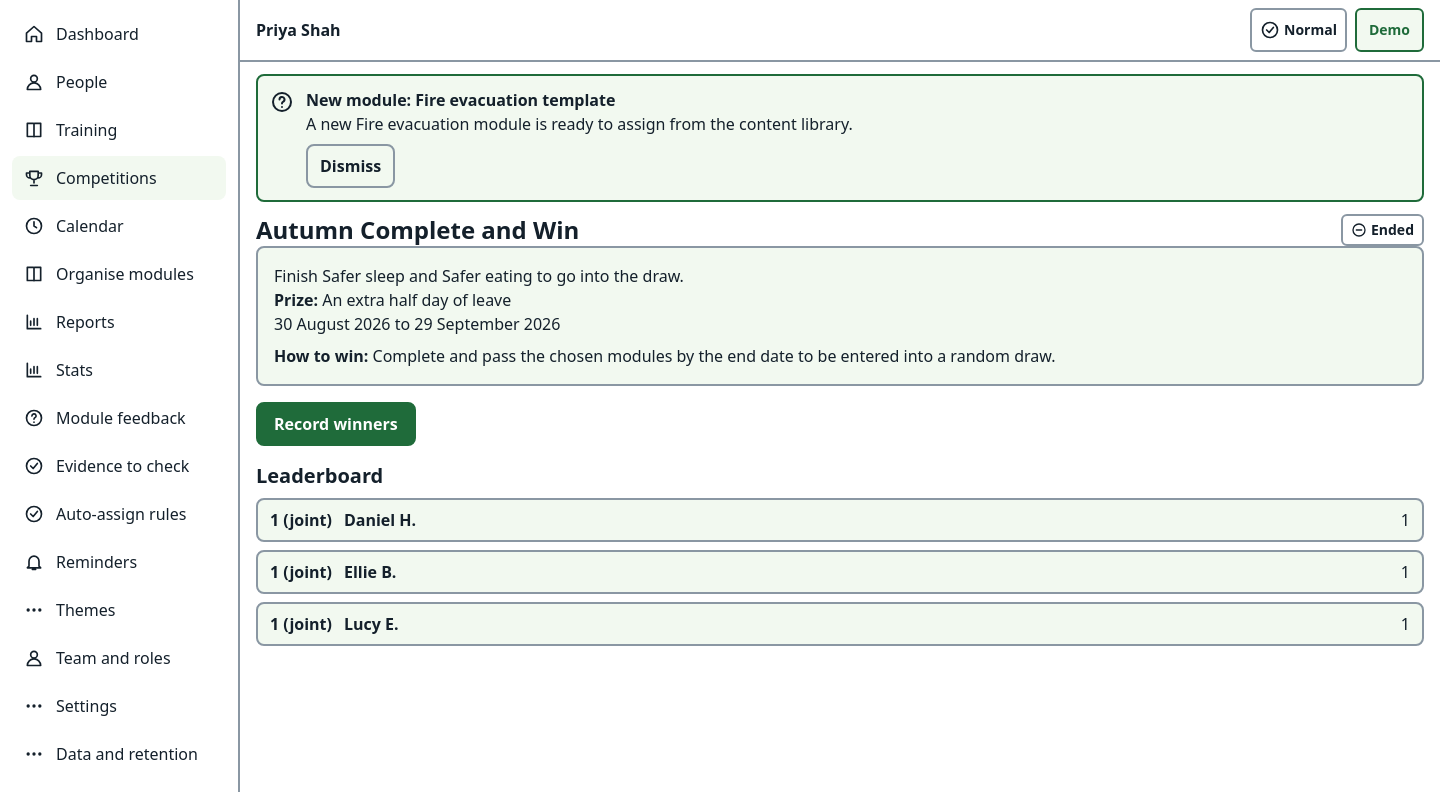
it: C13 Competition detail › records winners once after the end and then lists them
Click the button "Record winners". click: (336, 424)
box: [256, 402, 416, 446]
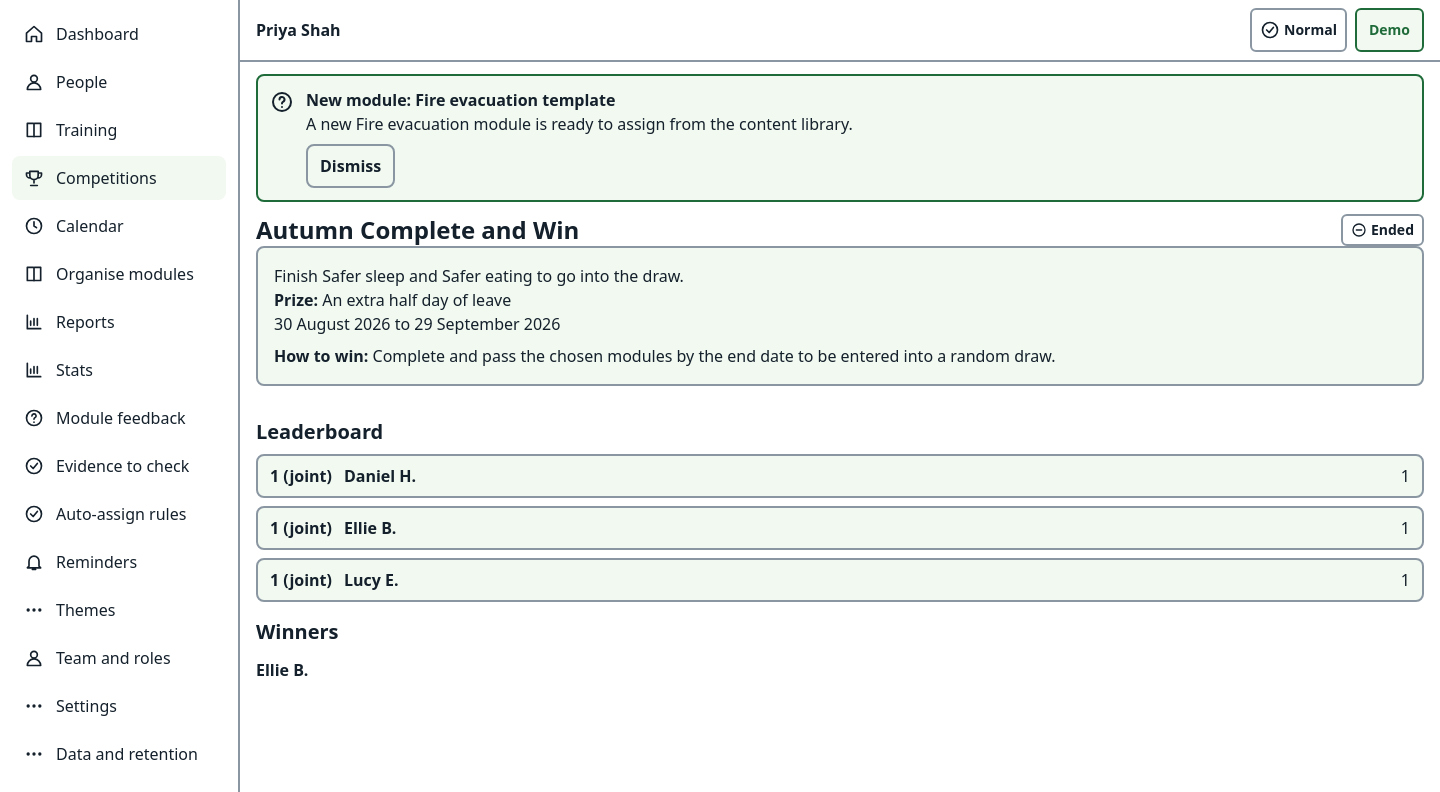
Expected: the button "Record winners" is gone
